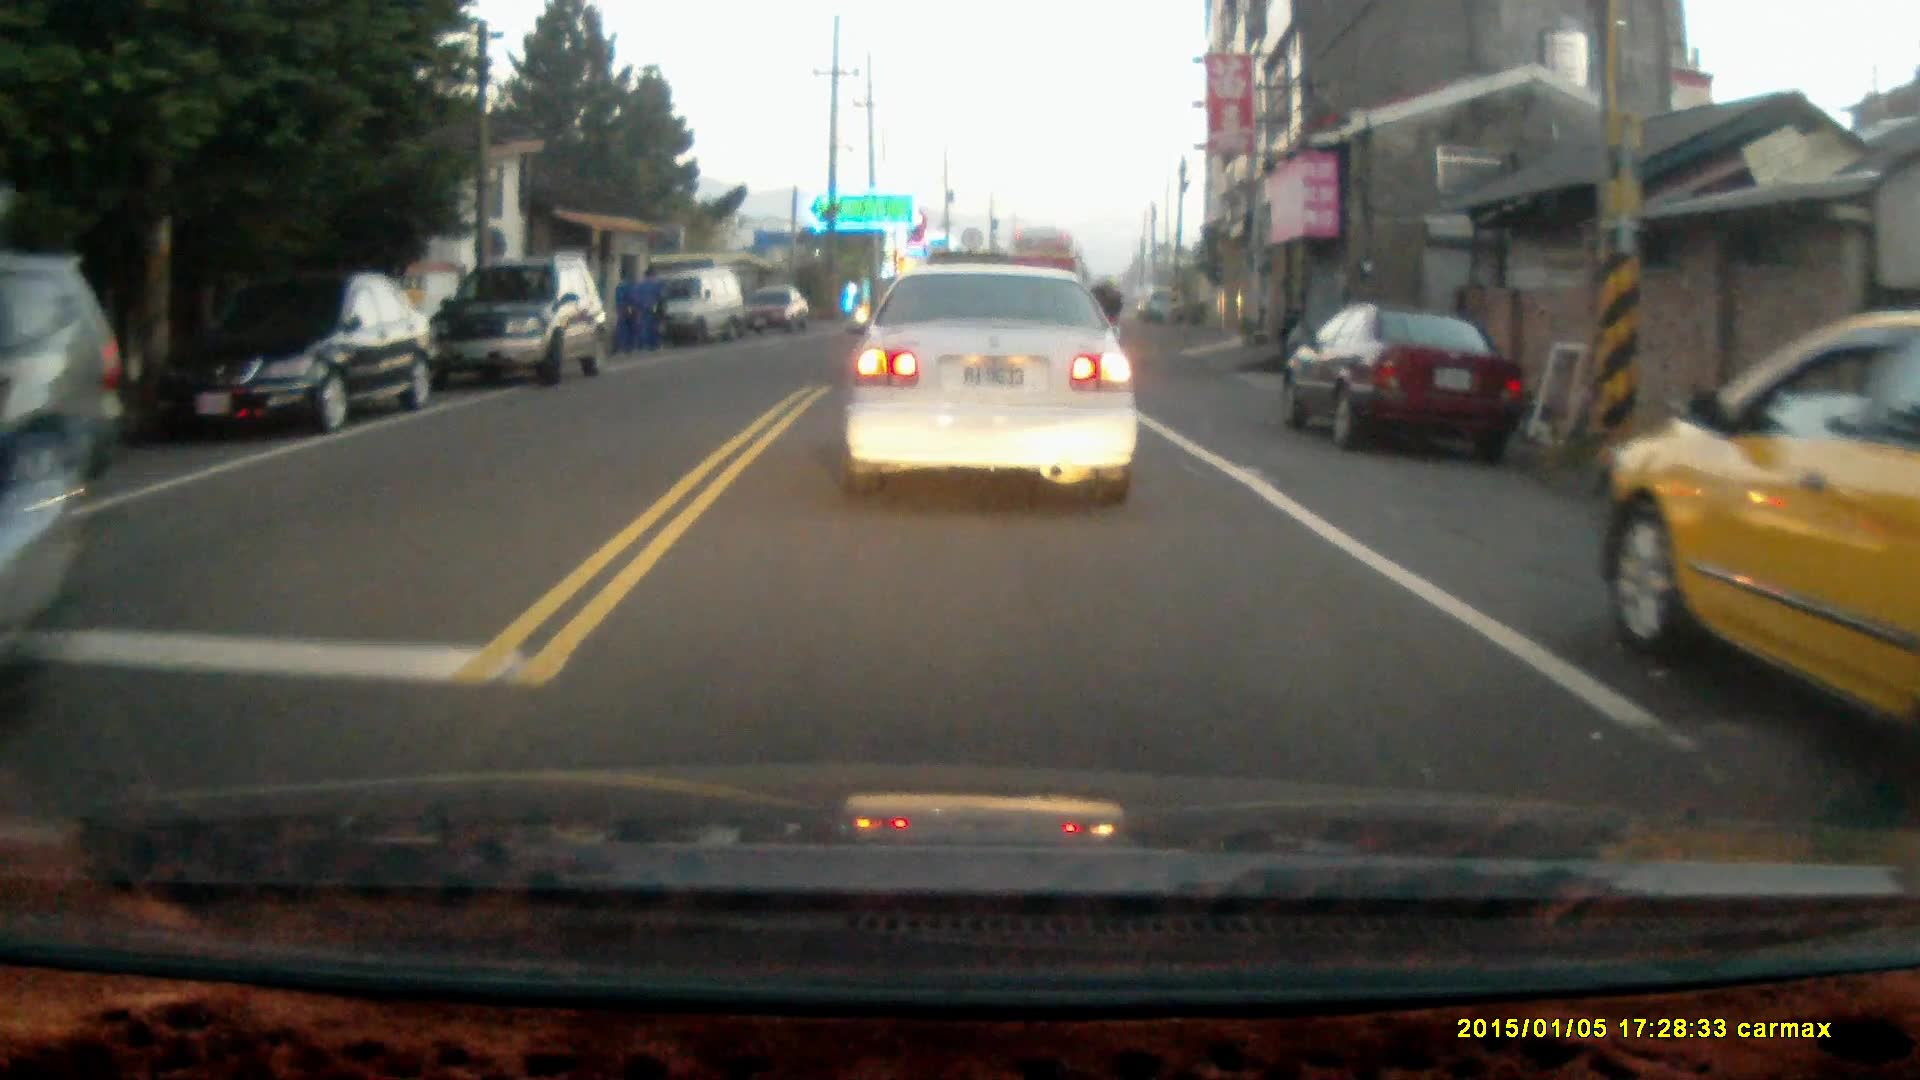pedestrian: (634, 265, 663, 356), (610, 265, 639, 353)
rider: (0, 184, 87, 737)
vehicle: (1598, 311, 1920, 792), (847, 263, 1142, 509), (153, 269, 436, 434), (1282, 301, 1528, 458), (426, 257, 609, 388), (638, 272, 749, 348), (726, 284, 810, 338)
